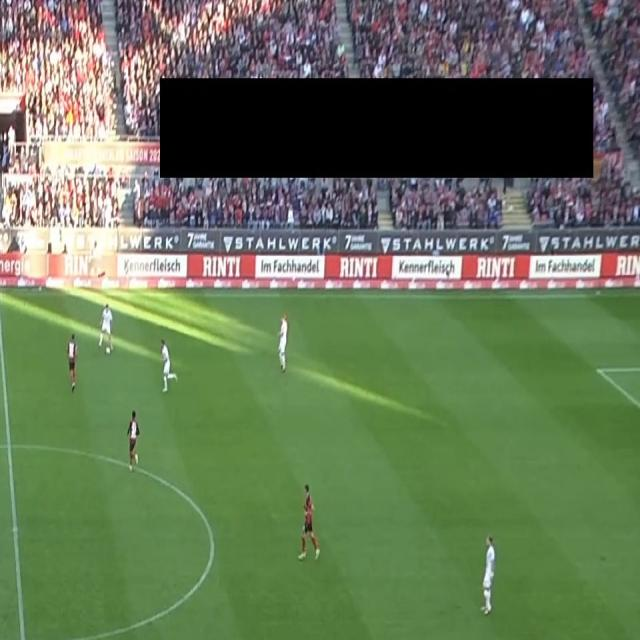ball: (105, 345, 111, 356)
